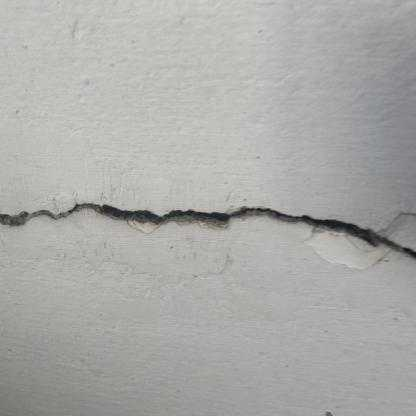crack: (0, 203, 416, 258)
